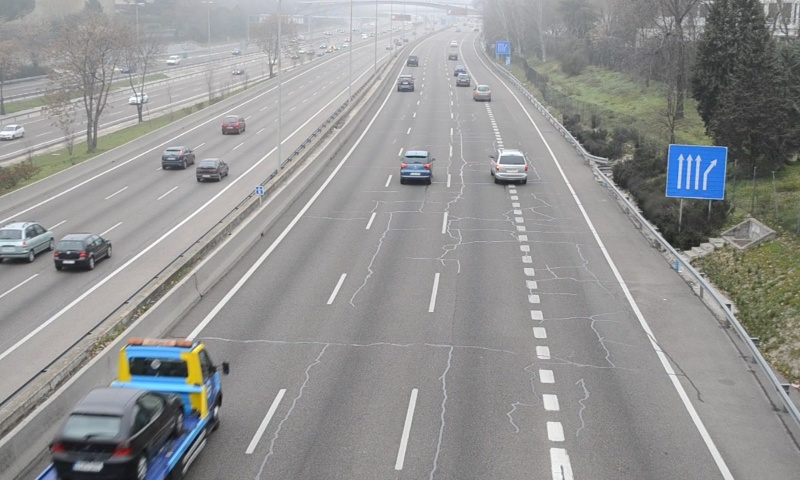car: (492, 150, 526, 182), (401, 151, 432, 182), (473, 84, 492, 102), (396, 74, 414, 93)
small-truck: (48, 338, 222, 480)
